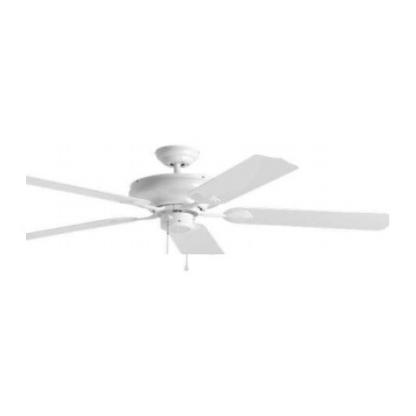ceiling-fan: (26, 143, 390, 255)
